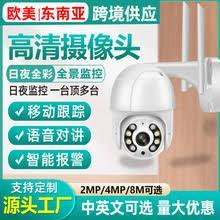maru: (113, 107, 174, 160)
